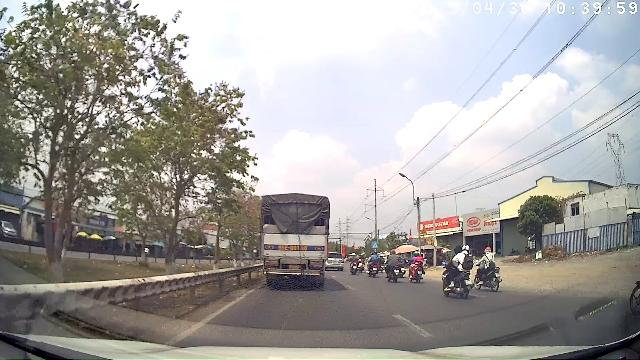423a-duong-nguoi-di-bo-sang-ngang-1: (371, 241, 379, 248)
